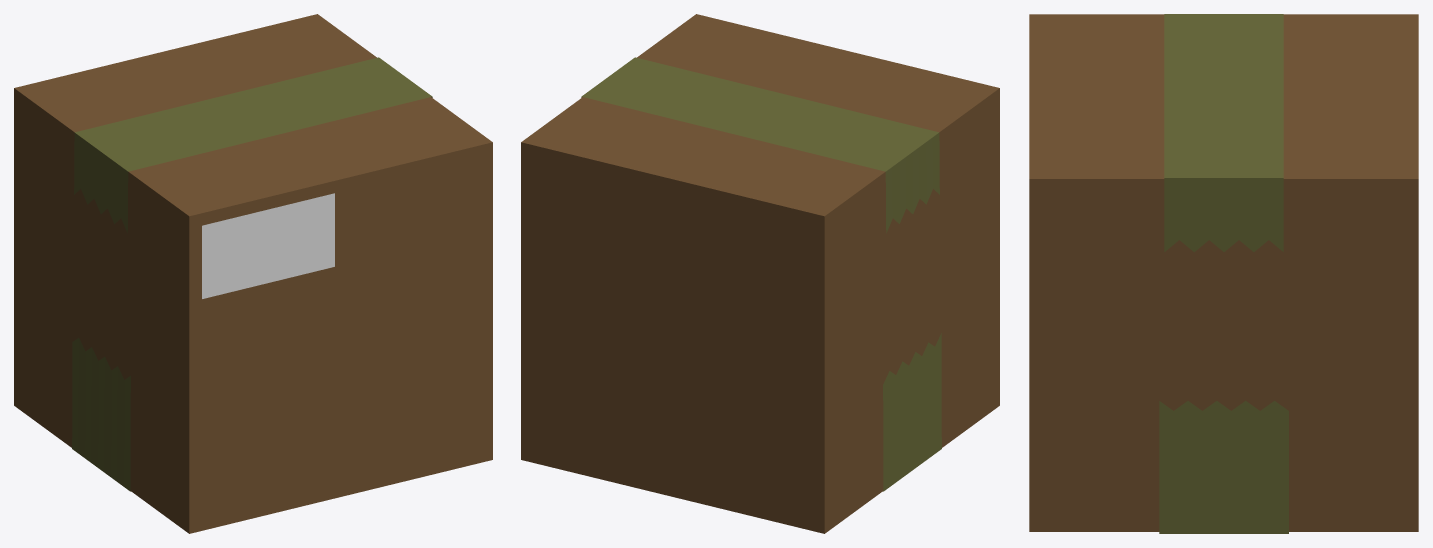
The model's file is box_close.fbx.
The picture shows the model from 3 angles, left to right: view 1: azimuth 30°, elevation 25°; view 2: azimuth 150°, elevation 25°; view 3: azimuth 270°, elevation 25°; orthographic projection. The views are drawn at different scales.
Parts seen in each view (by area): view 1: Box_closed; view 2: Box_closed; view 3: Box_closed.
Boxes of the visible parts, box(x1,y1,x2,y2) form: Box_closed: box(14, 14, 492, 533); Box_closed: box(521, 14, 999, 533); Box_closed: box(1029, 14, 1418, 533).
Bounding box in the file's own units: 39.7 × 39.65 × 39.51.
